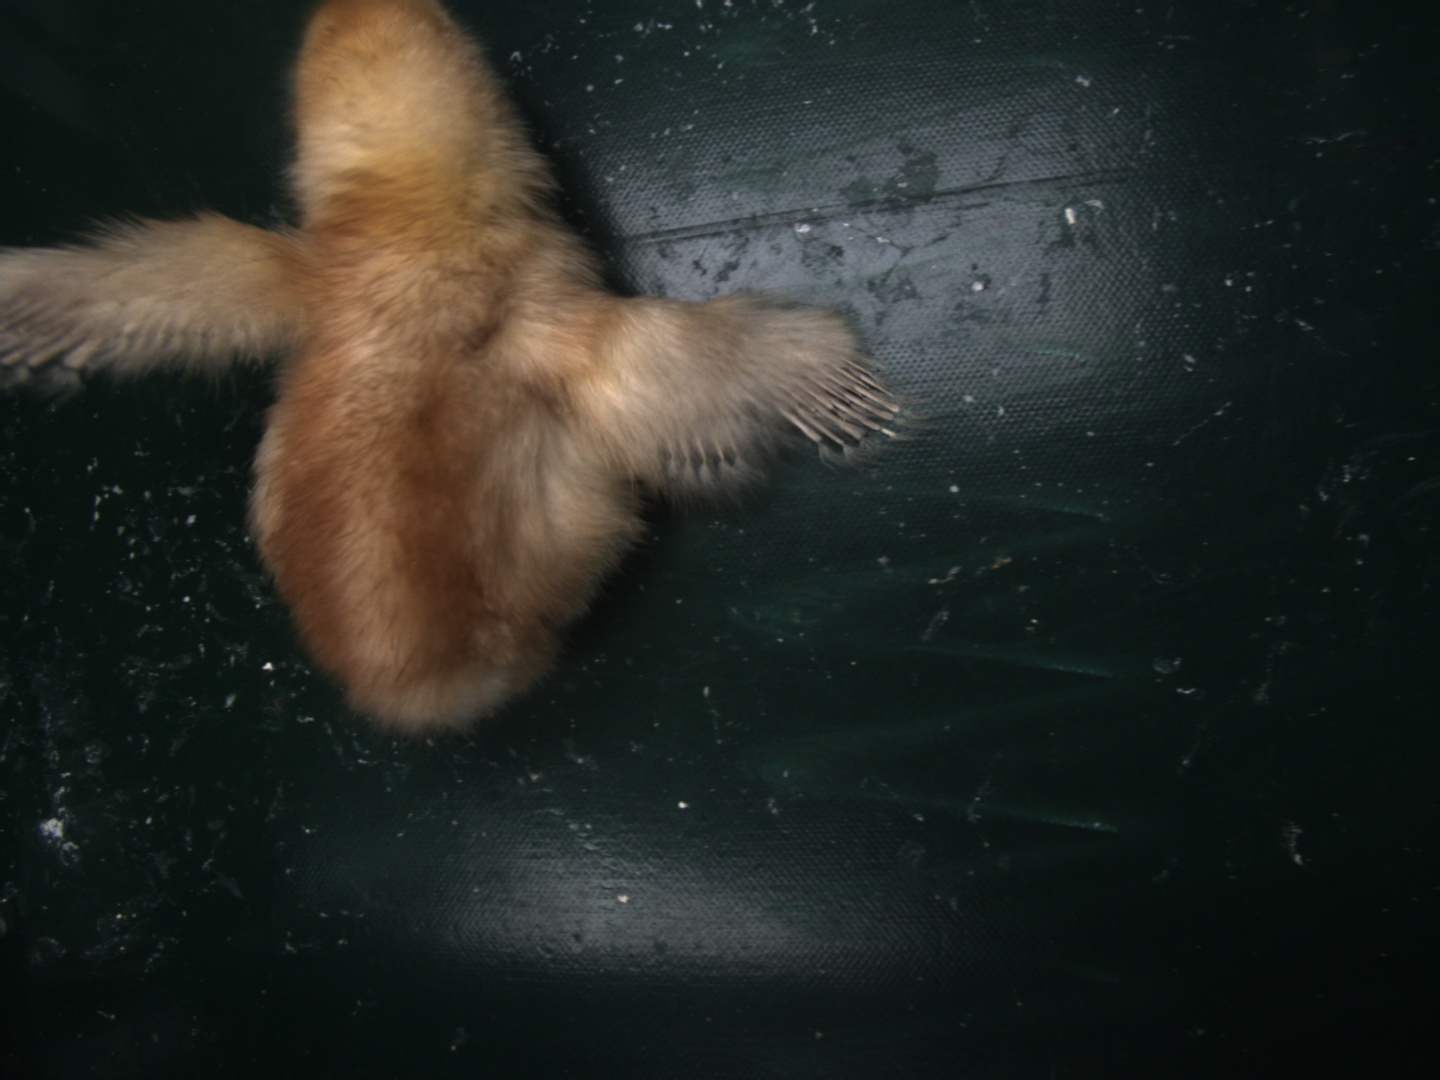female: (778, 357, 896, 442)
